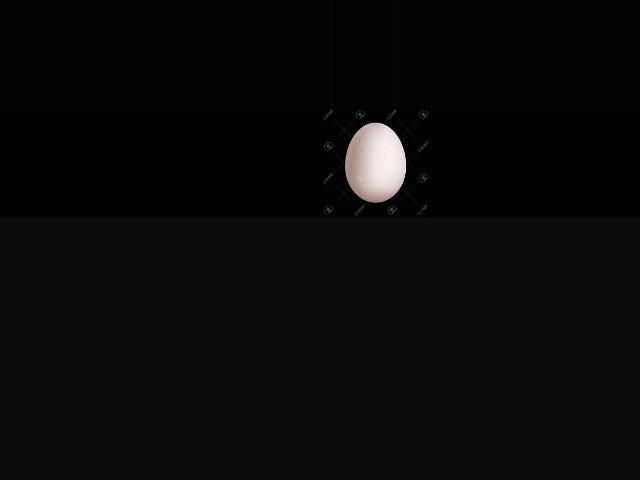egg: (346, 123, 406, 202)
